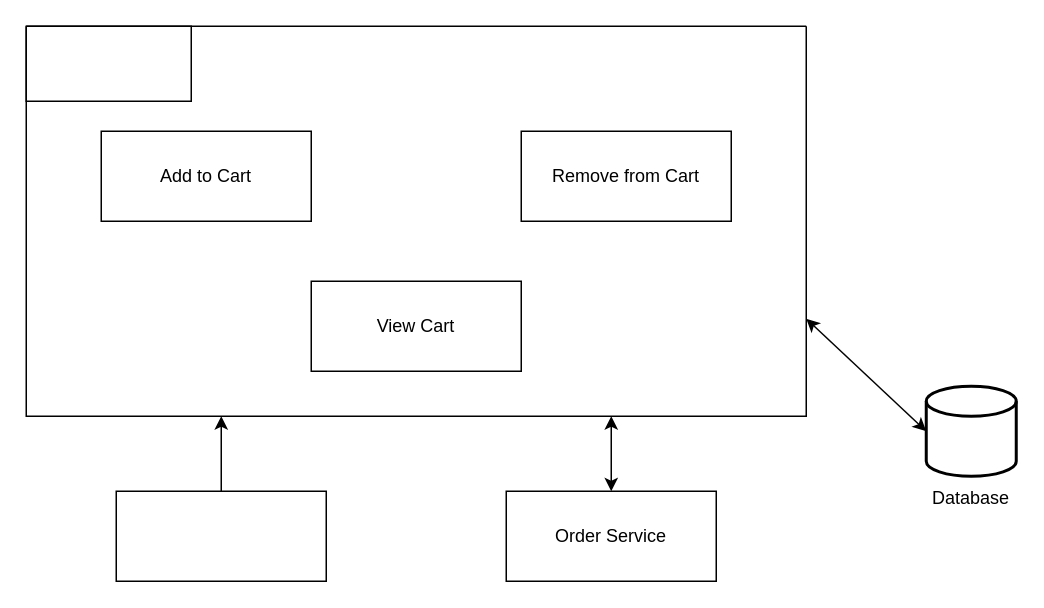
The diagram is 1044 pixels wide and 608 high, and some of its shapes have lost their labels. The shapes that lost their labels are listed below. From the top down, each one's centre as x and y in pixels, then its label:
pixel 108 63: «component» Cart Service
pixel 220 535: Lisiting
